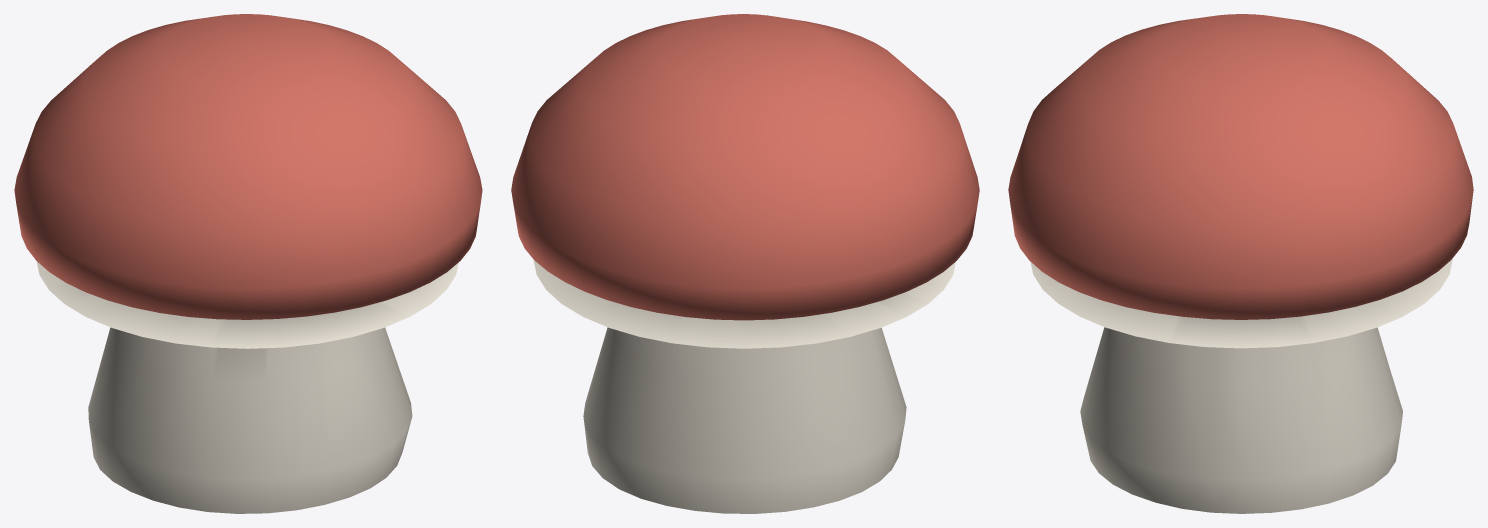
Rendered from food_porcini.glb.
3 renders of one model, left to right at view 1: azimuth 30°, elevation 25°; view 2: azimuth 150°, elevation 25°; view 3: azimuth 270°, elevation 25°, orthographic.
Parts seen in each view (by area): view 1: PART; view 2: PART; view 3: PART.
Part boxes in pixels (x1,y1,x2,y2): PART: (14,14,482,513); PART: (511,14,979,513); PART: (1008,14,1473,513).
Bounding box in the file's own units: 0.0864 × 0.0825 × 0.0858.
